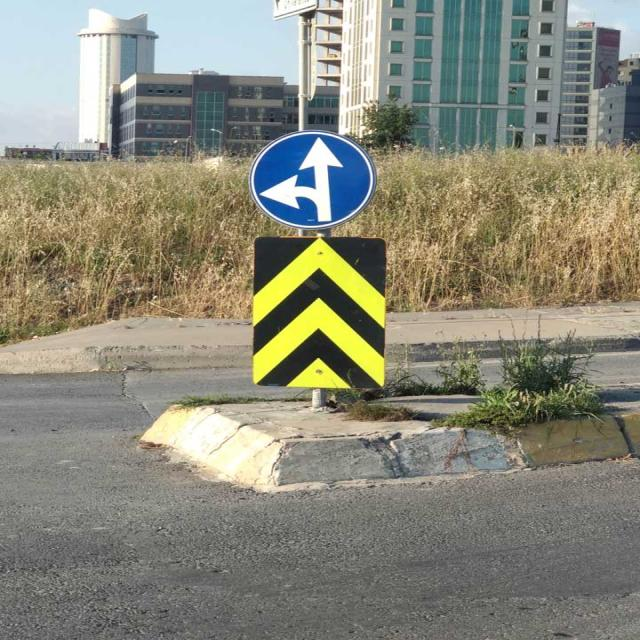ilerisol: (251, 130, 377, 230)
